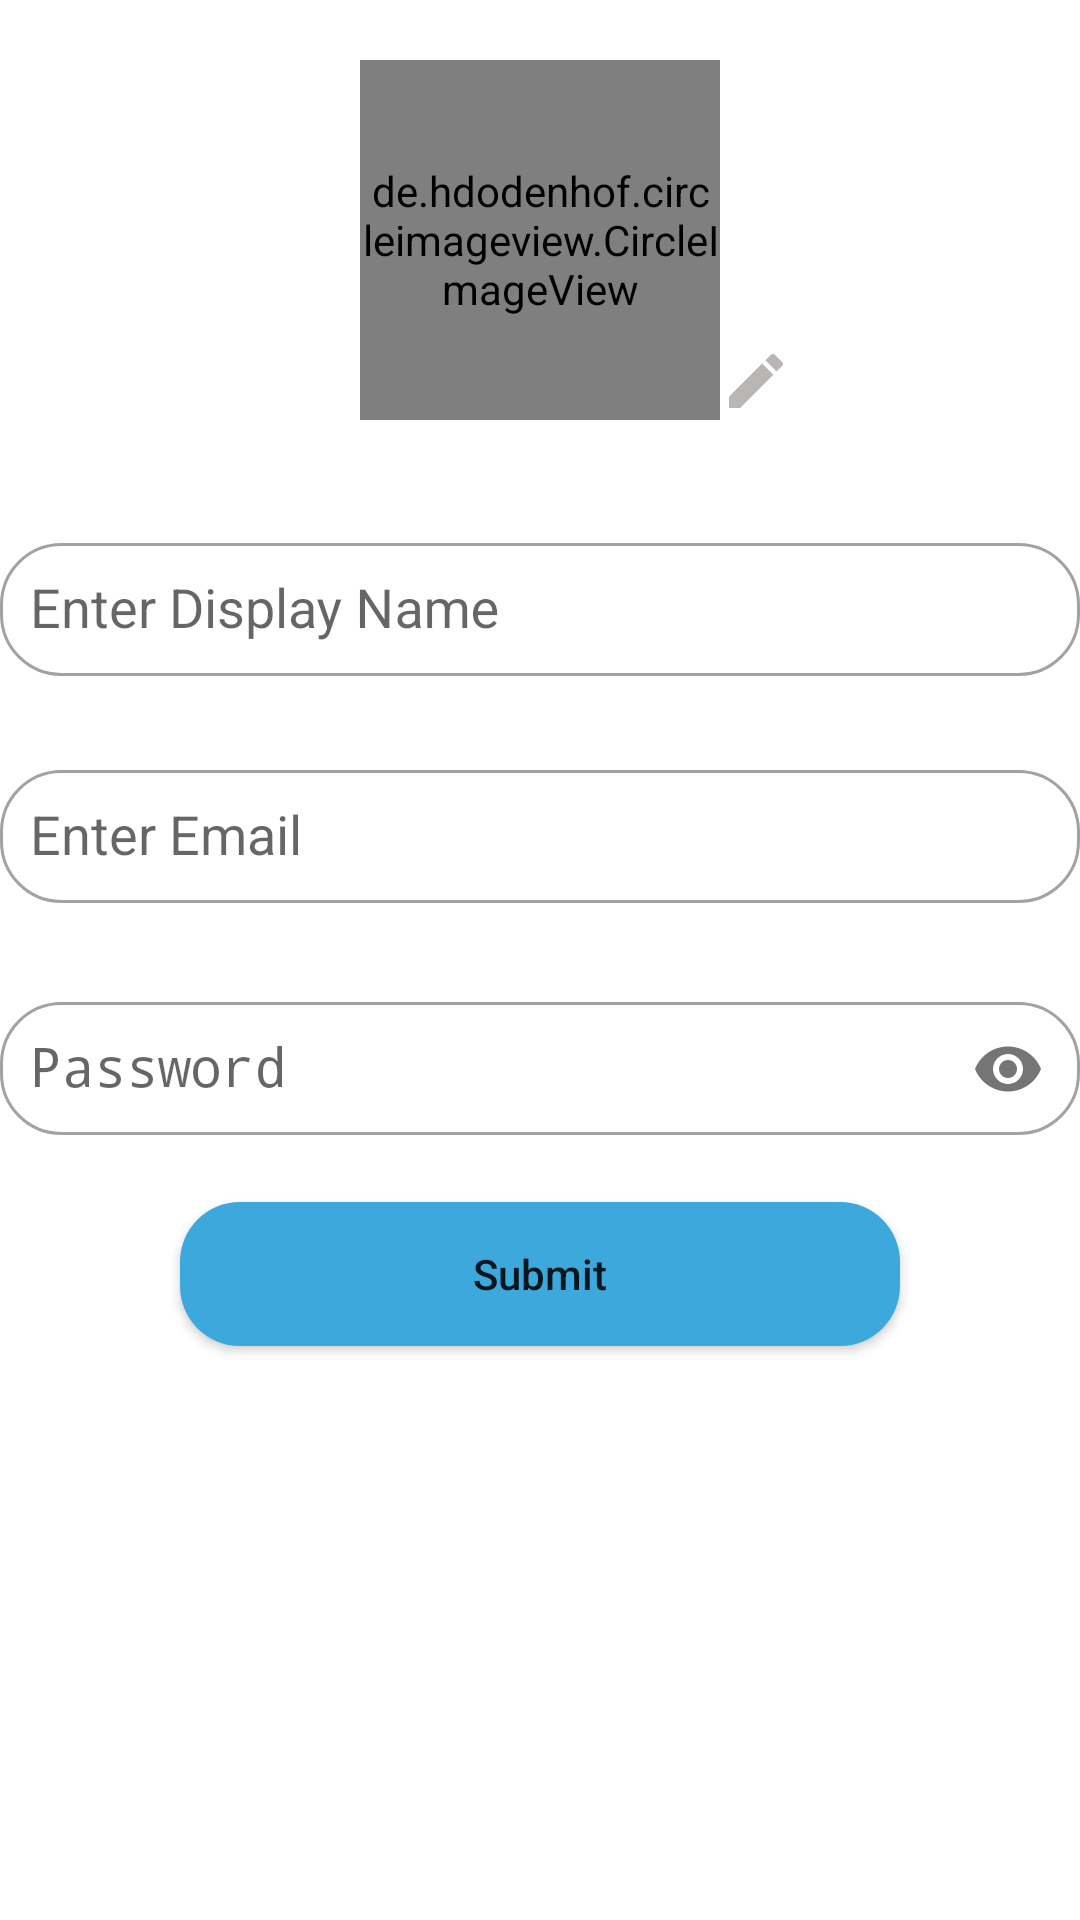

Screen size 1080×1920. Icon name, then its center in pixels as (x,y):
edit: (756,381)
